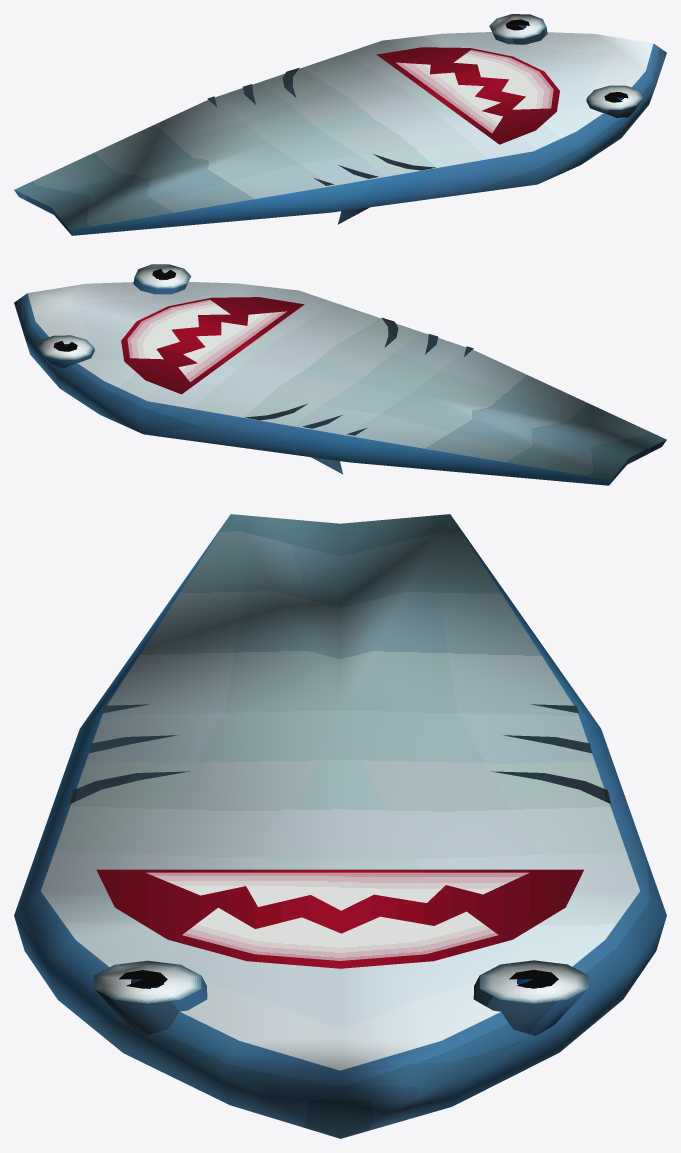
Rendered from GreatWhiteWakeboard.glb.
3 renders of one model, top to bottom at view 1: azimuth 30°, elevation 25°; view 2: azimuth 150°, elevation 25°; view 3: azimuth 270°, elevation 25°, orthographic. The views are drawn at different scales.
Parts seen in each view (by area): view 1: GreatWhiteWakeboard; view 2: GreatWhiteWakeboard; view 3: GreatWhiteWakeboard.
Boxes of the visible parts, bbox=[...] form: GreatWhiteWakeboard: bbox=[14, 14, 666, 235]; GreatWhiteWakeboard: bbox=[14, 264, 666, 485]; GreatWhiteWakeboard: bbox=[14, 514, 666, 1138].
Size of the model in its own units: 9.54 by 1.59 by 4.36.
Materials: 1 (1 with a texture image).
